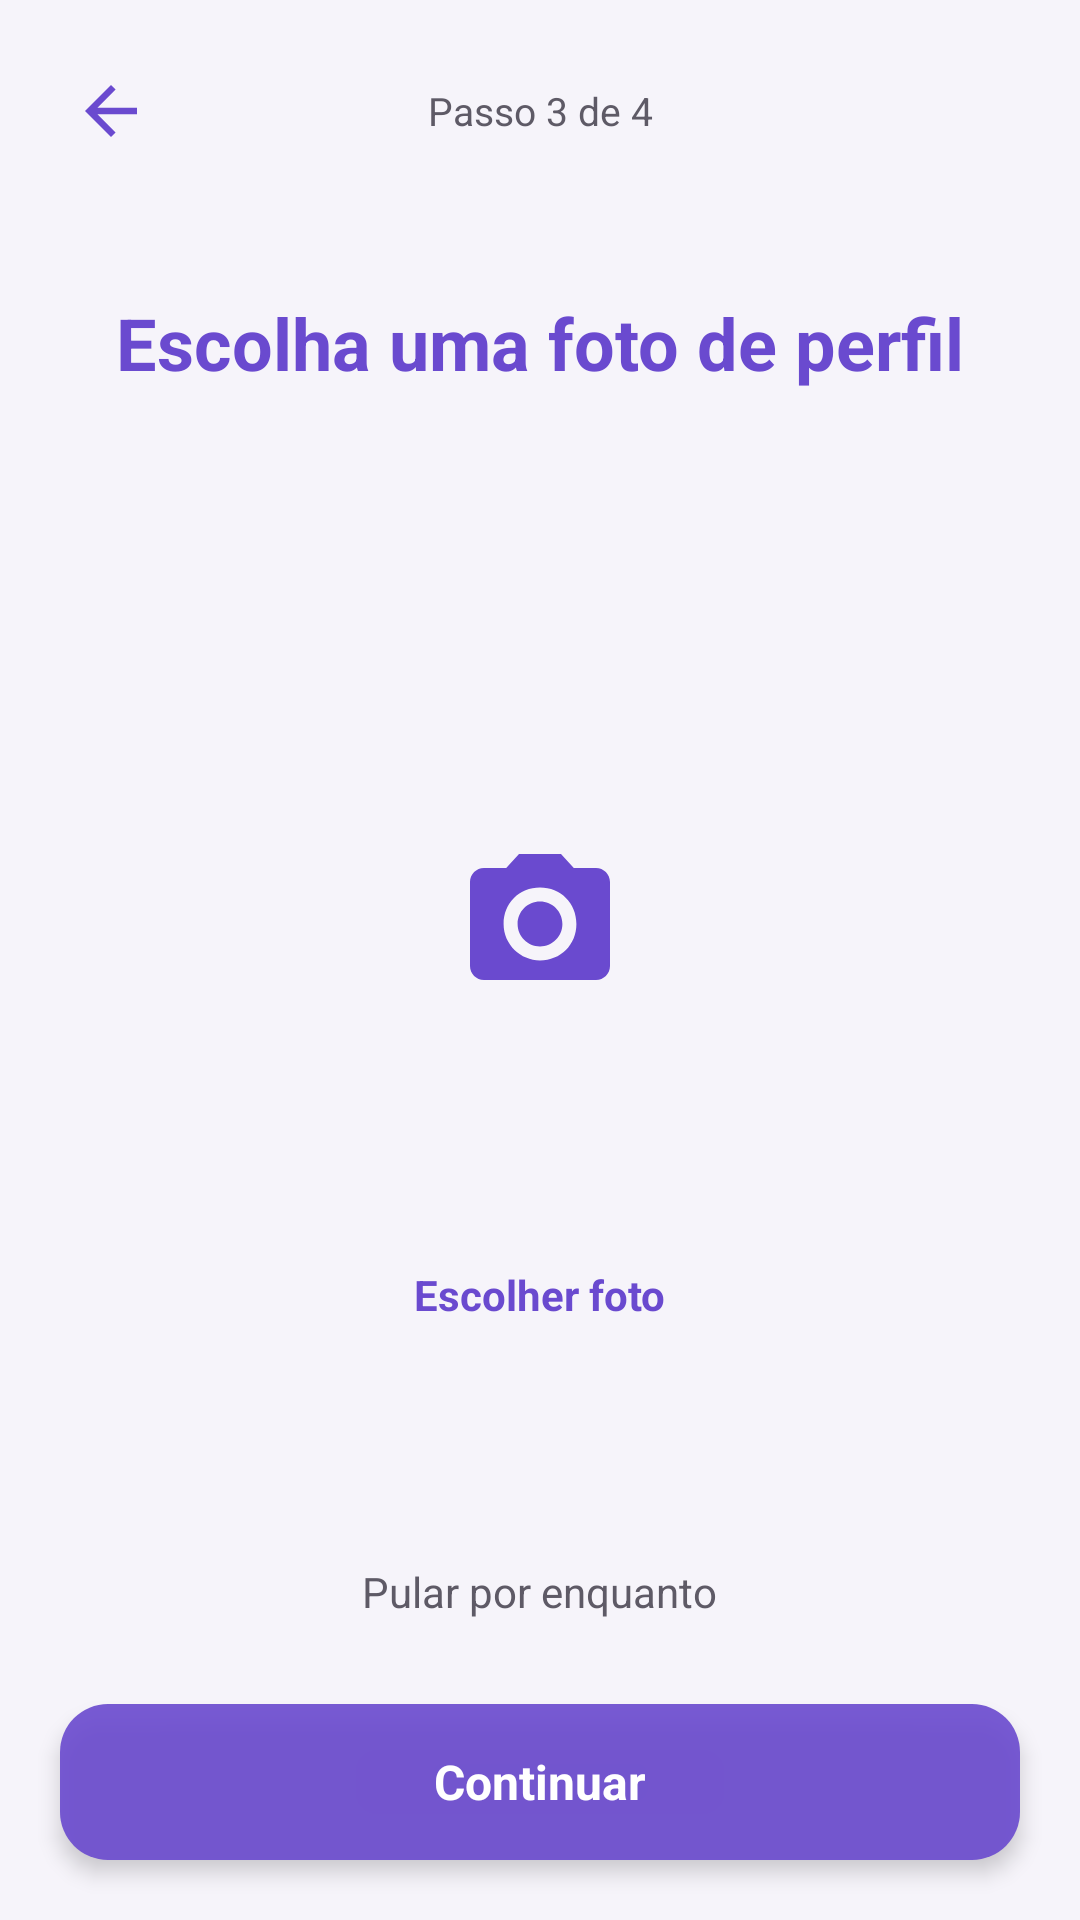

Named icons in this screenshot (1080px×1920px) and their bounding boxes, bbox(x1, y1, x2, y2):
back: bbox(85, 85, 137, 137)
camera: bbox(470, 854, 610, 980)
